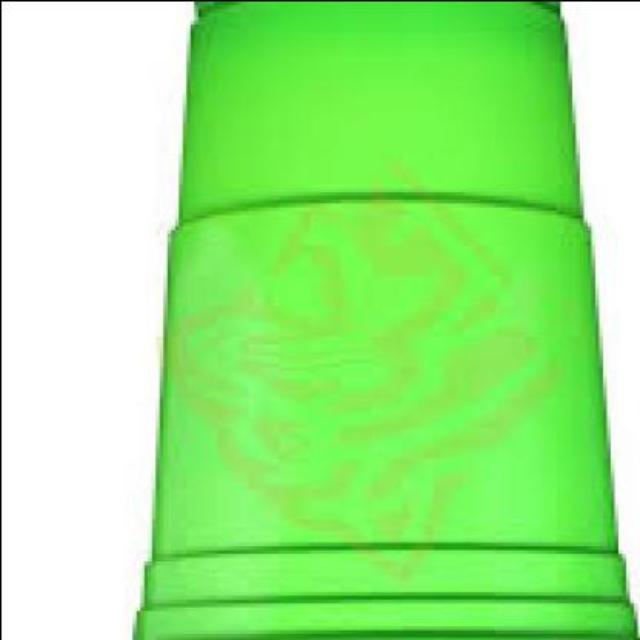plastic_cup: (88, 4, 638, 638)
